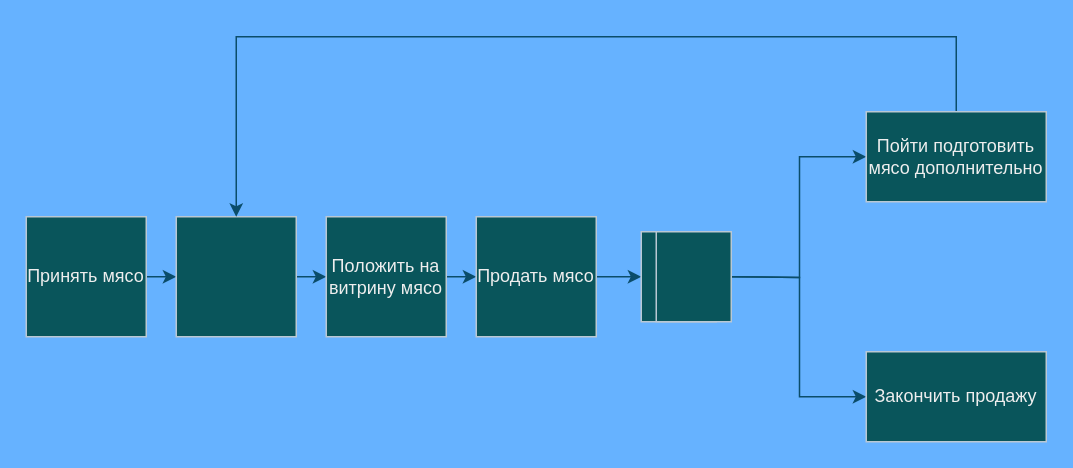
Image size: 1073x468. Some labels were removed from this diagram. Each missing label, with the centre of its shape:
"Подготовить мясо" belongs at (235,276).
"Прибыль за день" belongs at (693,276).
